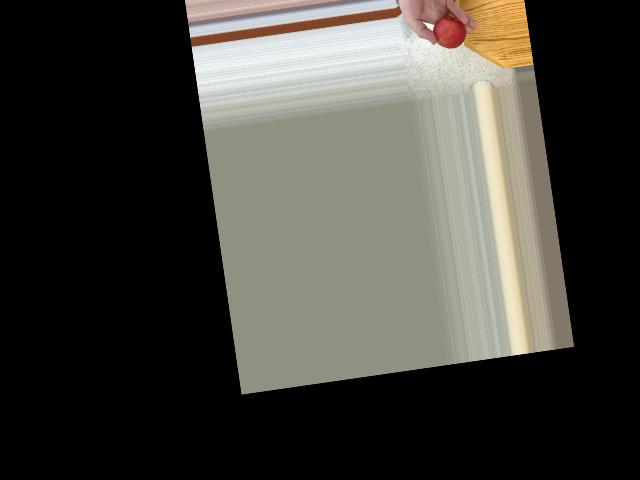apple: (429, 9, 468, 52)
